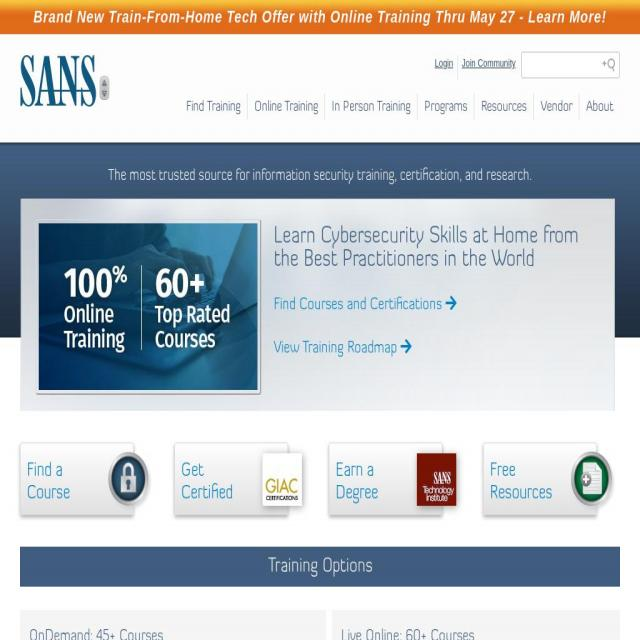button: (21, 545, 620, 587), (0, 0, 640, 32), (329, 442, 444, 518), (483, 443, 597, 516), (173, 443, 288, 515), (21, 443, 132, 515), (325, 93, 417, 120), (247, 93, 325, 120), (180, 93, 248, 120), (474, 93, 534, 120), (461, 54, 520, 80), (418, 93, 474, 120), (534, 93, 579, 120), (580, 93, 620, 120), (434, 54, 458, 80), (99, 76, 110, 100)
field: (521, 52, 620, 78)
